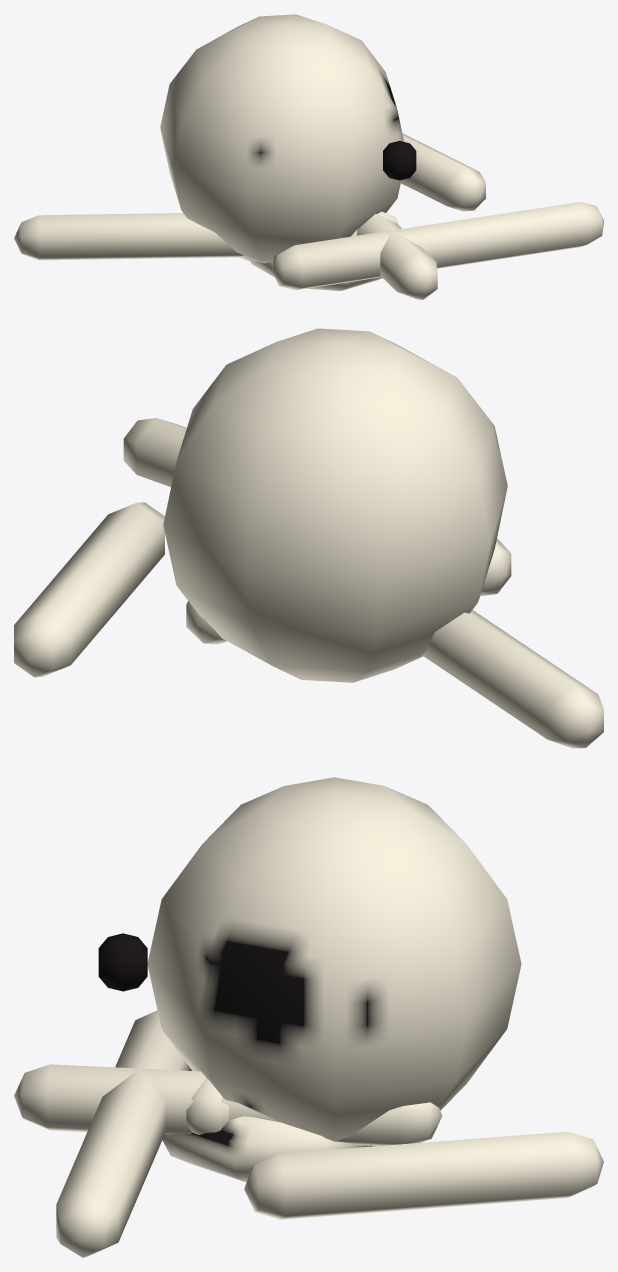
File: prop_bones4_7680.glb
The picture shows the model from 3 angles, top to bottom: view 1: azimuth 30°, elevation 25°; view 2: azimuth 150°, elevation 25°; view 3: azimuth 270°, elevation 25°; orthographic projection. The views are drawn at different scales.
Visible parts, largest first — view 1: prop_bones4_7680; view 2: prop_bones4_7680; view 3: prop_bones4_7680.
Boxes of the visible parts, x1=… form: prop_bones4_7680: x1=14, y1=14, x2=603, y2=299; prop_bones4_7680: x1=14, y1=328, x2=603, y2=748; prop_bones4_7680: x1=14, y1=777, x2=603, y2=1257.
Size of the model in its own units: 0.7551 by 0.3756 by 0.5714.
1 material, 1 textured.
